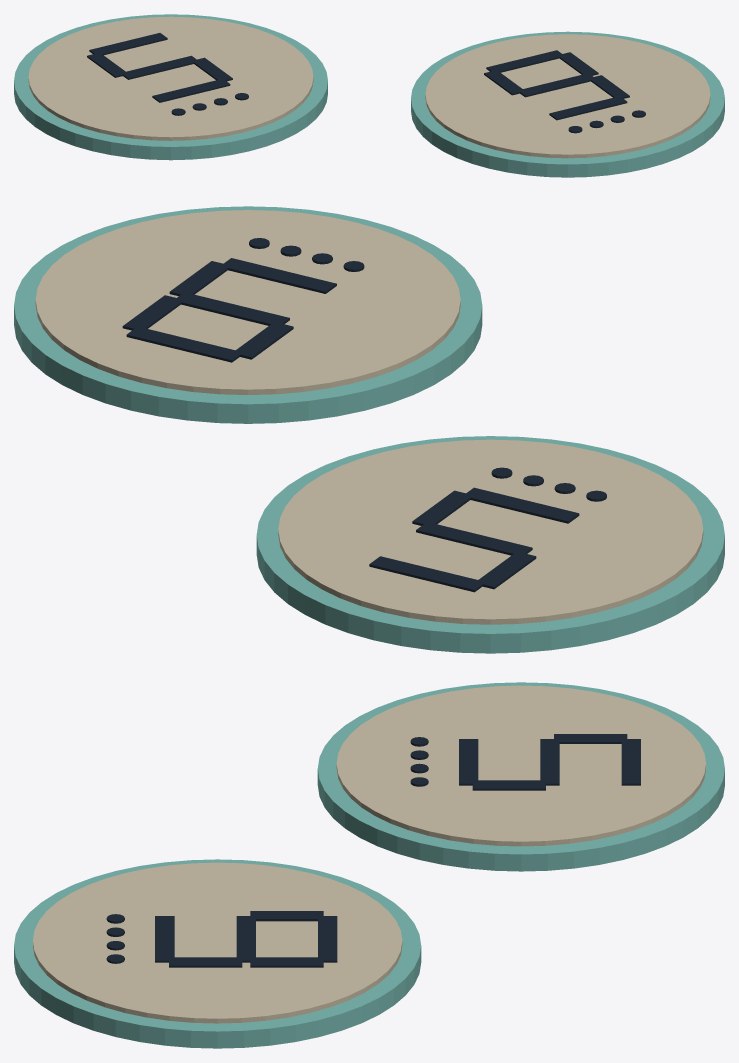
File: space_scene_signal_swap.glb
The picture shows the model from 3 angles, top to bottom: view 1: azimuth 30°, elevation 25°; view 2: azimuth 150°, elevation 25°; view 3: azimuth 270°, elevation 25°; orthographic projection. The views are drawn at different scales.
Visible parts, largest first — view 1: FixedDetails; view 2: FixedDetails; view 3: FixedDetails.
Part boxes in pixels (x1,y1,x2,y2): FixedDetails: (14, 14, 724, 177); FixedDetails: (14, 206, 724, 653); FixedDetails: (14, 682, 724, 1048).
Size of the model in its own units: 0.7888 by 0.0259 by 0.6788.
